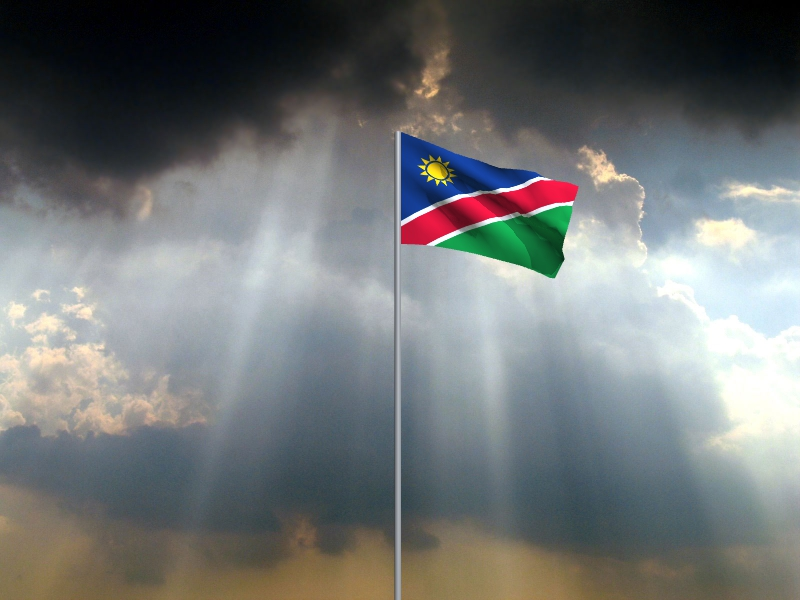na: (402, 133, 580, 280)
